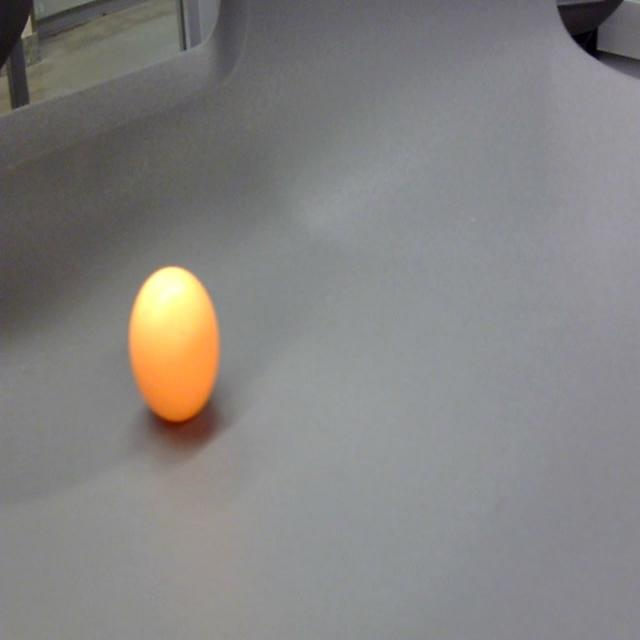ball: (127, 260, 226, 428)
